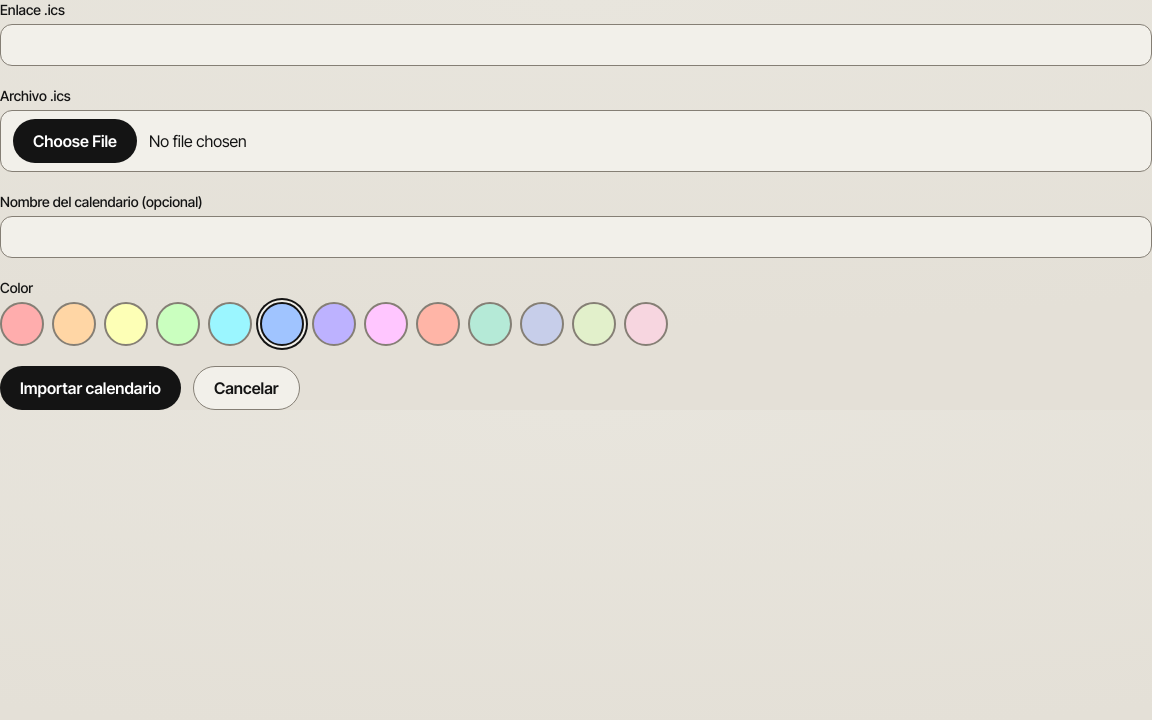
Test: ImportForm errors › shows an import failure as an alert and keeps what was typed
This screenshot has width=1152, height=720.
Type "https://calendar.example.com/a.ics" into the field labelled "Enlace .ics" at (576,45), box top-left (0, 24), bottom-right (1151, 66)
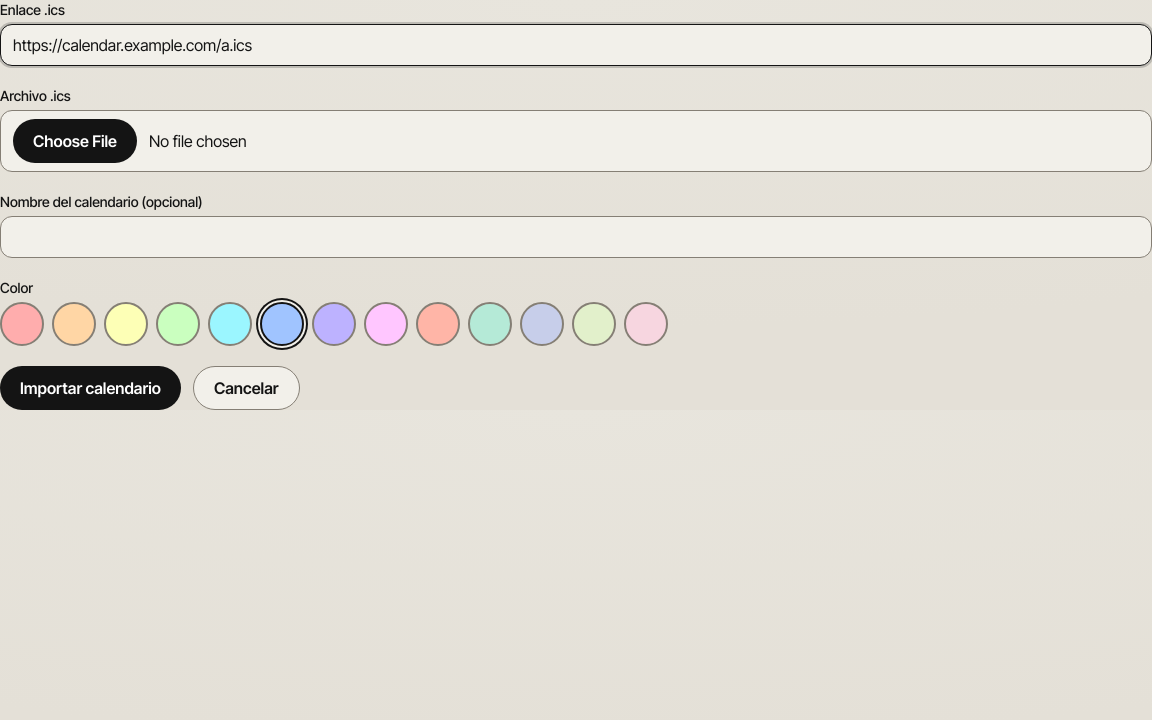
Click the button "Importar calendario" at (90,388), box top-left (0, 366), bottom-right (181, 410)
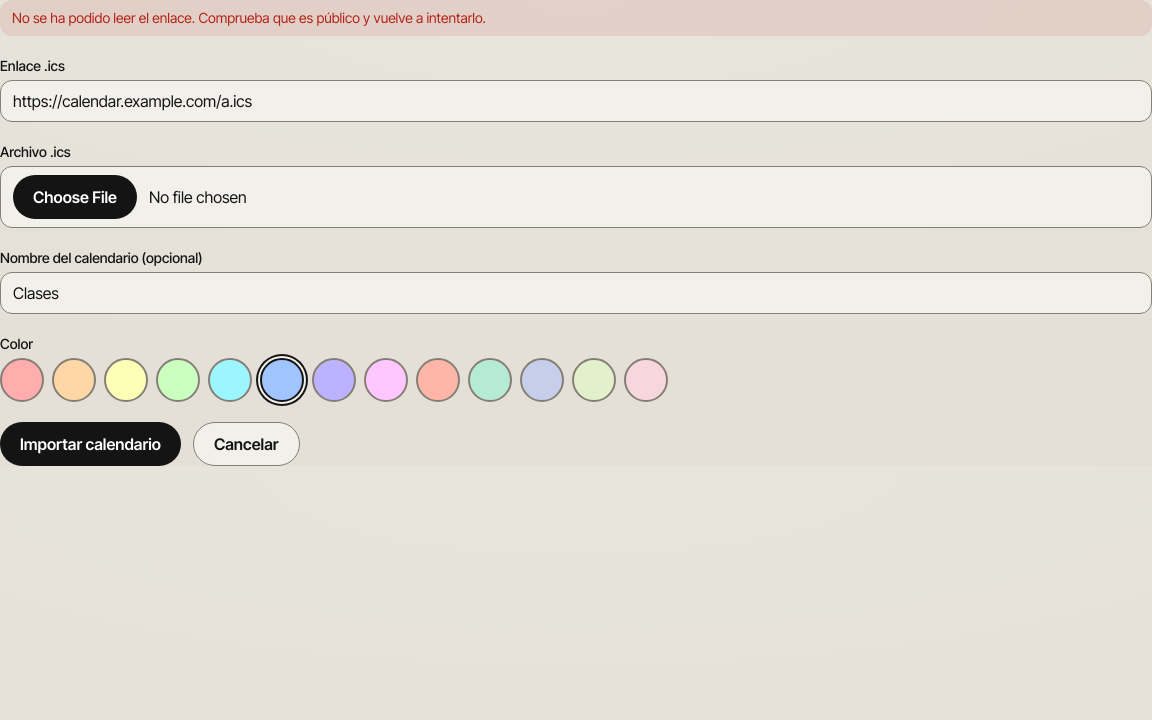
Expected: the message shows "No se ha podido leer el enlace", top-left (12, 9), bottom-right (486, 26)
Expected: the field labelled "Nombre del calendario (opcional)" holds "Clases", top-left (0, 272), bottom-right (1151, 314)
